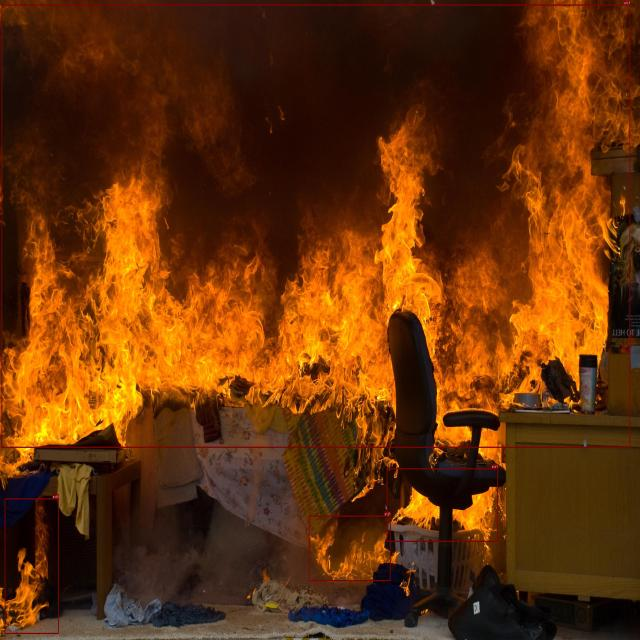fire: (2, 5, 630, 448), (387, 468, 498, 542), (5, 498, 59, 634), (309, 515, 391, 581)
